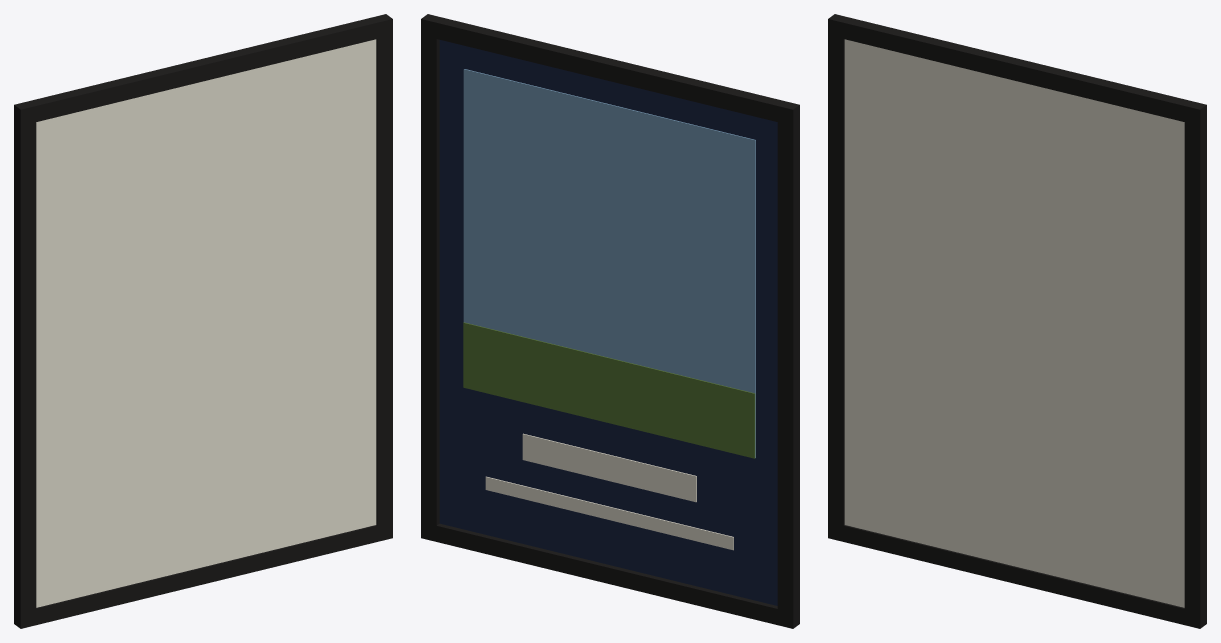
File: SM_80s_Poster_Teamwork.glb
The picture shows the model from 3 angles, left to right: view 1: azimuth 30°, elevation 25°; view 2: azimuth 150°, elevation 25°; view 3: azimuth 330°, elevation 25°; orthographic projection.
Parts seen in each view (by area): view 1: SM_80s_Poster_Teamwork; view 2: SM_80s_Poster_Teamwork; view 3: SM_80s_Poster_Teamwork.
Part boxes in pixels (box(x1,y1,x2,y2)): SM_80s_Poster_Teamwork: box(14, 14, 392, 628); SM_80s_Poster_Teamwork: box(421, 14, 799, 628); SM_80s_Poster_Teamwork: box(828, 14, 1206, 628).
Bounding box in the file's own units: 0.792 × 1.06 × 0.025.
